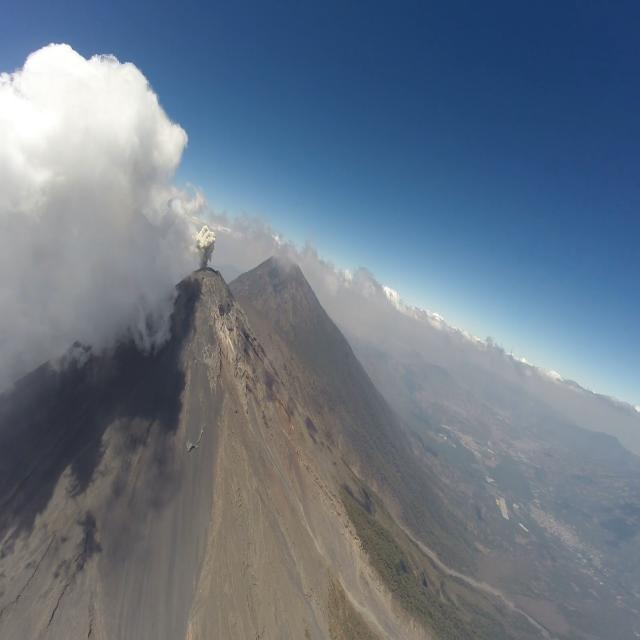Plume: (192, 221, 216, 270)
Summit: (172, 264, 255, 349)
